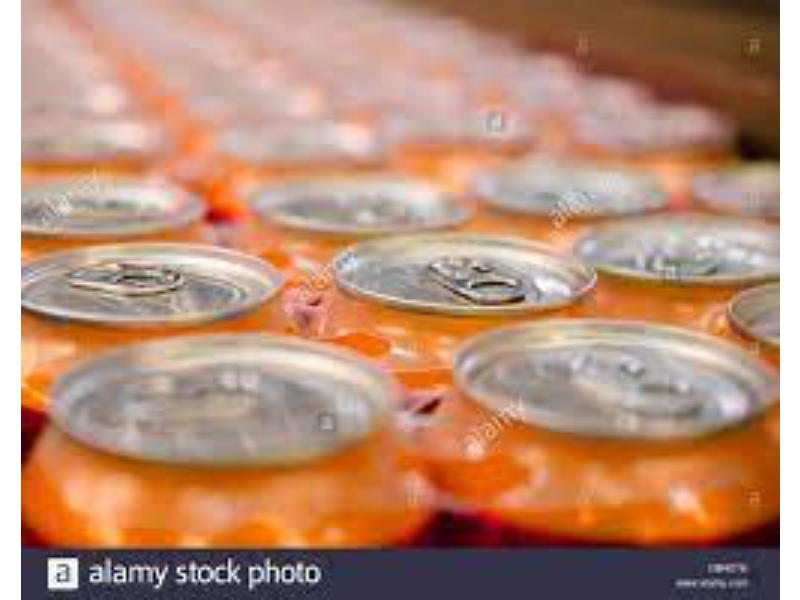can: (46, 327, 408, 472), (456, 316, 782, 446), (322, 229, 602, 331), (20, 246, 302, 341), (570, 207, 779, 287)
